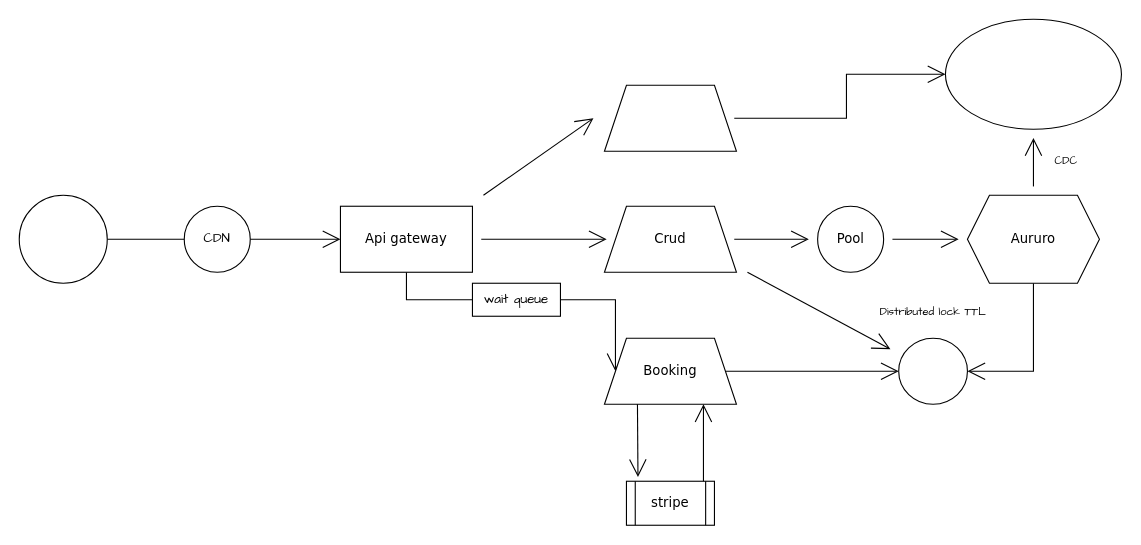
This 1141x545 diagram has some shape labels left out. Here are the shapes that lost their labels. From the top down, the centre of each, then its label:
At point 1032,73: "Elastic search Caching Inverted index".
At point 669,117: "Search".
At point 62,238: "CLient".
At point 932,370: "redis".
